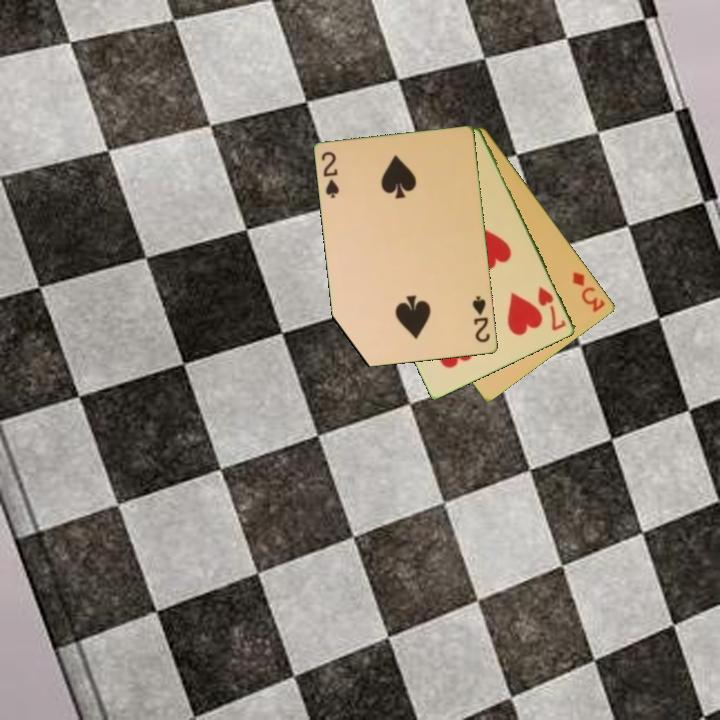2s: (469, 292, 493, 346), (318, 148, 342, 201)
3d: (569, 268, 609, 315)
7h: (535, 283, 569, 334)
